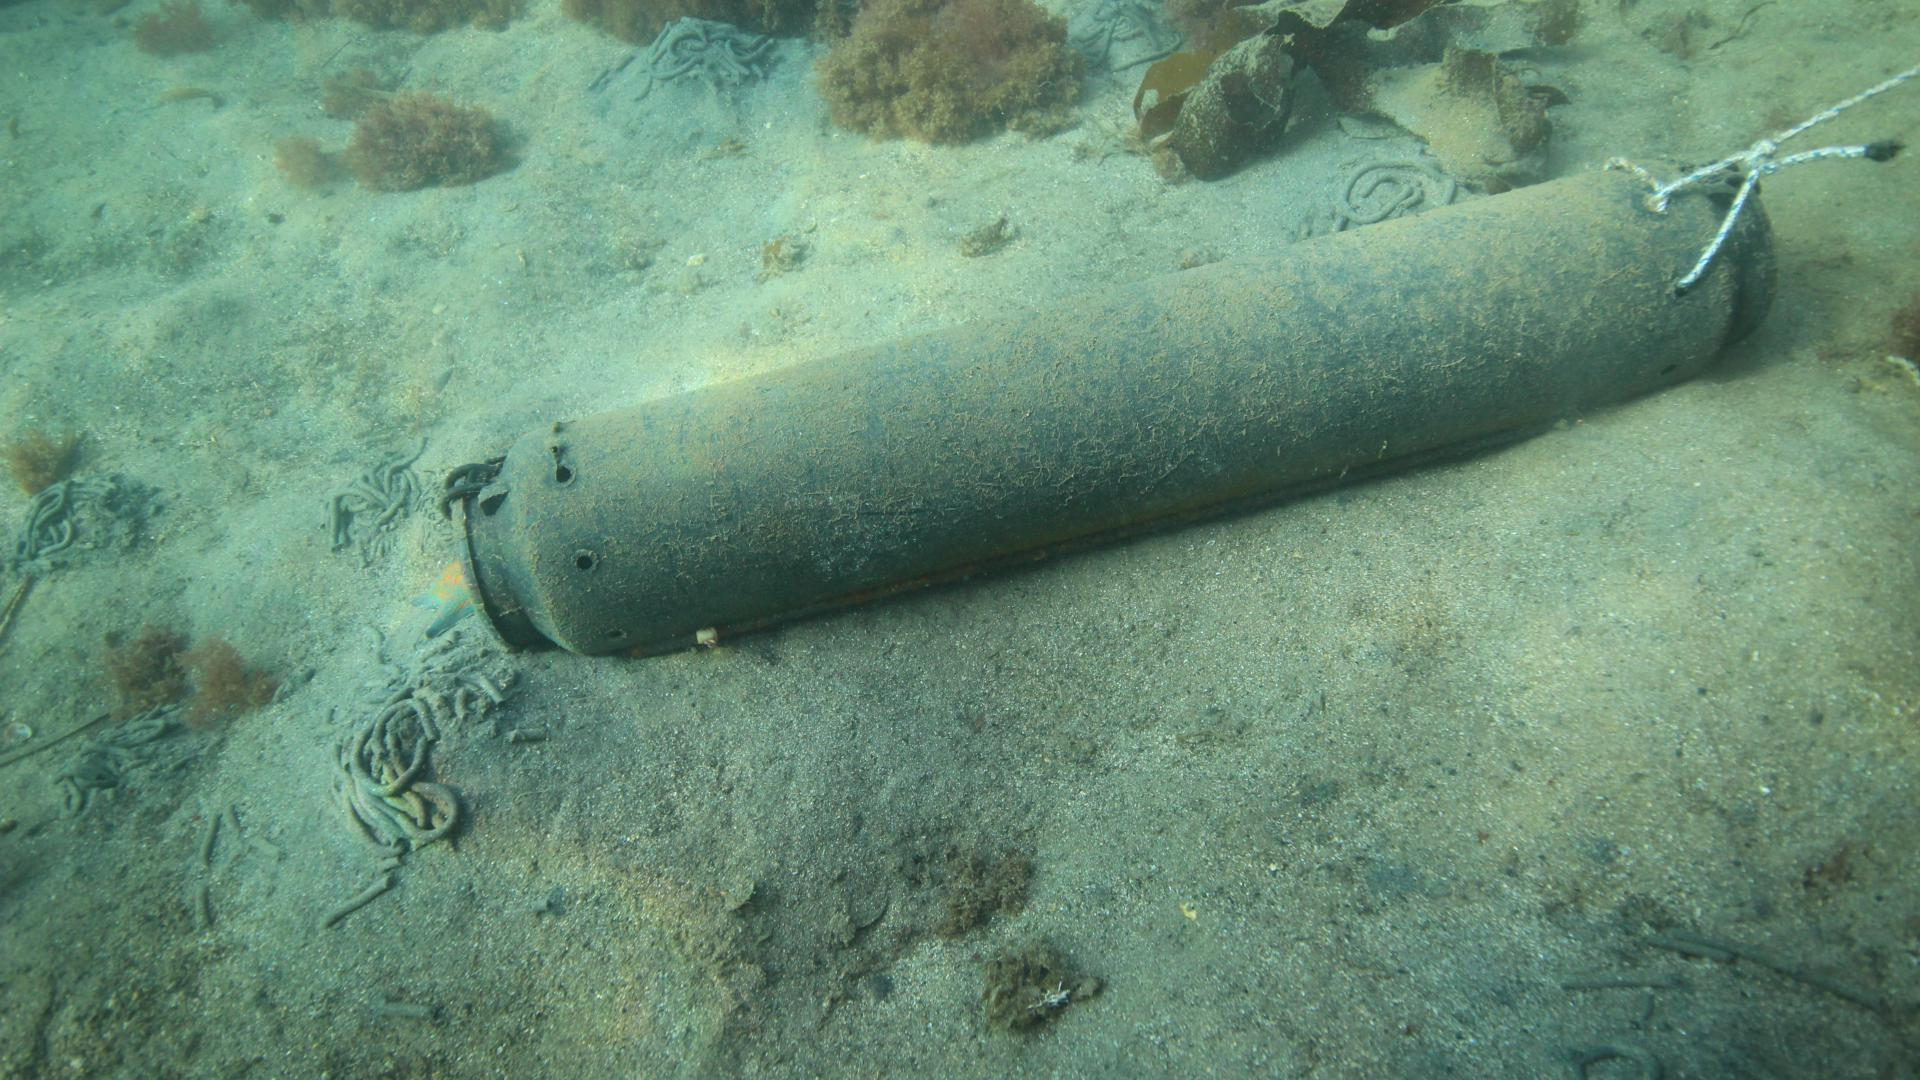bundle of ropes: (1605, 54, 1920, 287)
eel fish trap: (436, 150, 1782, 661)
